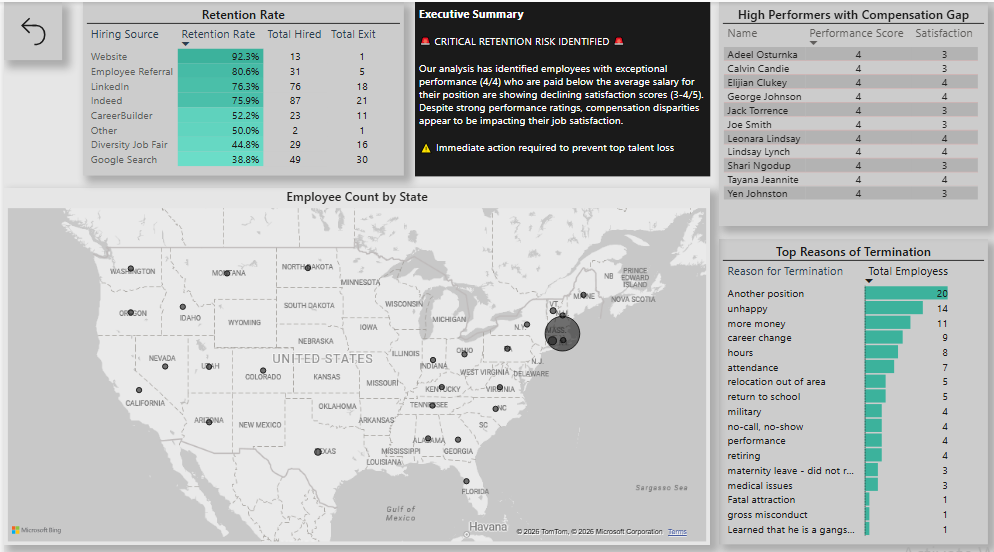

The page's visual inventory and layout, read from the dashboard file:
{"tool":"powerbi","page":{"name":"Retention","canvas":[1280,720],"ordinal":1},"visuals":[{"type":"tableEx","title":"Top Reasons of Termination","fields":{"Values":["Employee Info.TermReason","CountNonNull(Fact Table.EmpID)"]},"box":[922.7,306.1,347.2,394],"z":1000},{"type":"pivotTable","title":"Retention Rate","fields":{"Rows":["Employee Info.RecruitmentSource"],"Values":["Measure Table.Retention Rate","Measure Table.Total Employees","CountNonNull(Fact Table.Termd)"]},"box":[102,0,413.9,223.9],"z":2000},{"type":"map","title":"Employee Count by State","fields":{"Category":["Geography.State"],"Size":["CountNonNull(Fact Table.EmpID)"]},"box":[0,239.5,911.3,460.6],"z":3000},{"type":"tableEx","title":"High Performers with Compensation Gap","fields":{"Values":["Employee Info.Employee_Name","Performance.PerfScoreID","Employee Info.EmpSatisfaction"]},"box":[922.7,0,347.2,289.1],"z":3001},{"type":"textbox","box":[530.1,0,381.3,225.4],"z":3004},{"type":"actionButton","title":"Clear All","box":[0,0,75.1,75.1],"z":3005}]}

Visuals, with their boxes in screenshot pixels (x1, y1, x2, y2), scaled from the page's 1280x720 canvas onto the 994x552 screenshot:
"Top Reasons of Termination" tableEx: Rect(717, 235, 986, 537)
"Retention Rate" pivotTable: Rect(79, 0, 401, 172)
"Employee Count by State" map: Rect(0, 184, 708, 537)
"High Performers with Compensation Gap" tableEx: Rect(717, 0, 986, 222)
textbox: Rect(412, 0, 708, 173)
"Clear All" actionButton: Rect(0, 0, 58, 58)
